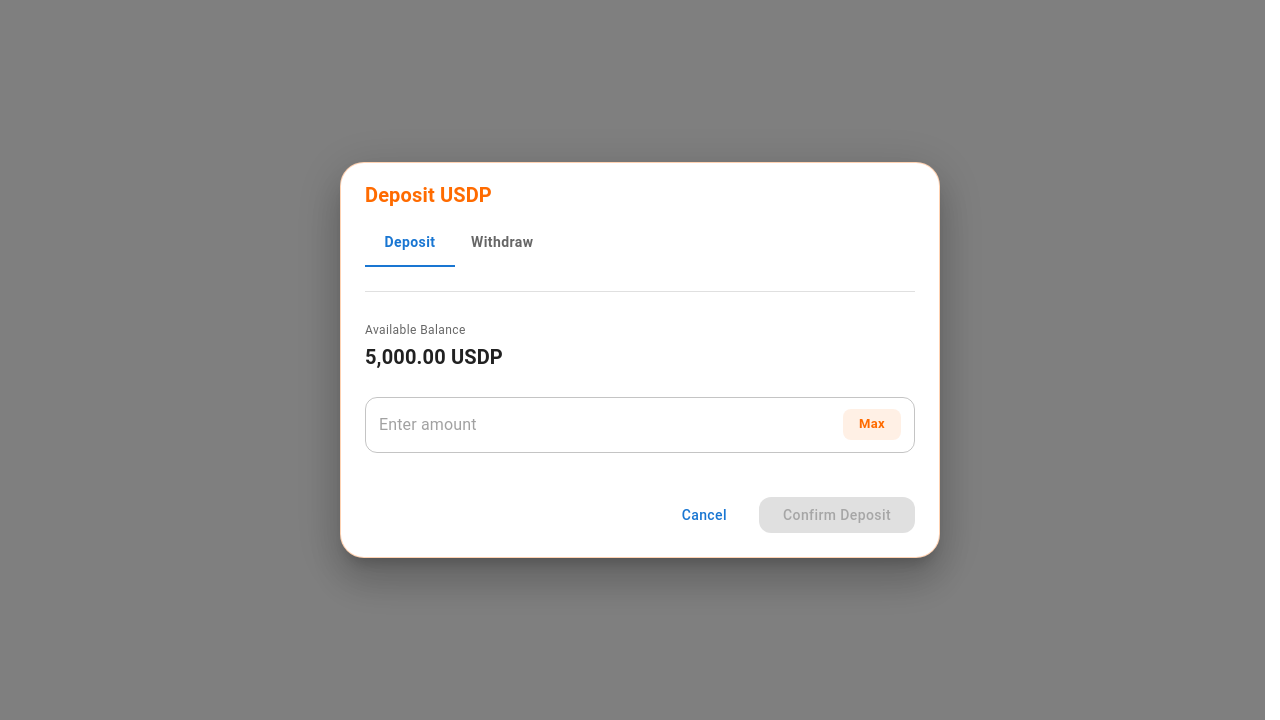
Test: SavingsDepositModal › Functional Tests › should fill max amount on Max button click
Click the button "Max": point(872, 425) [843,409,901,440]
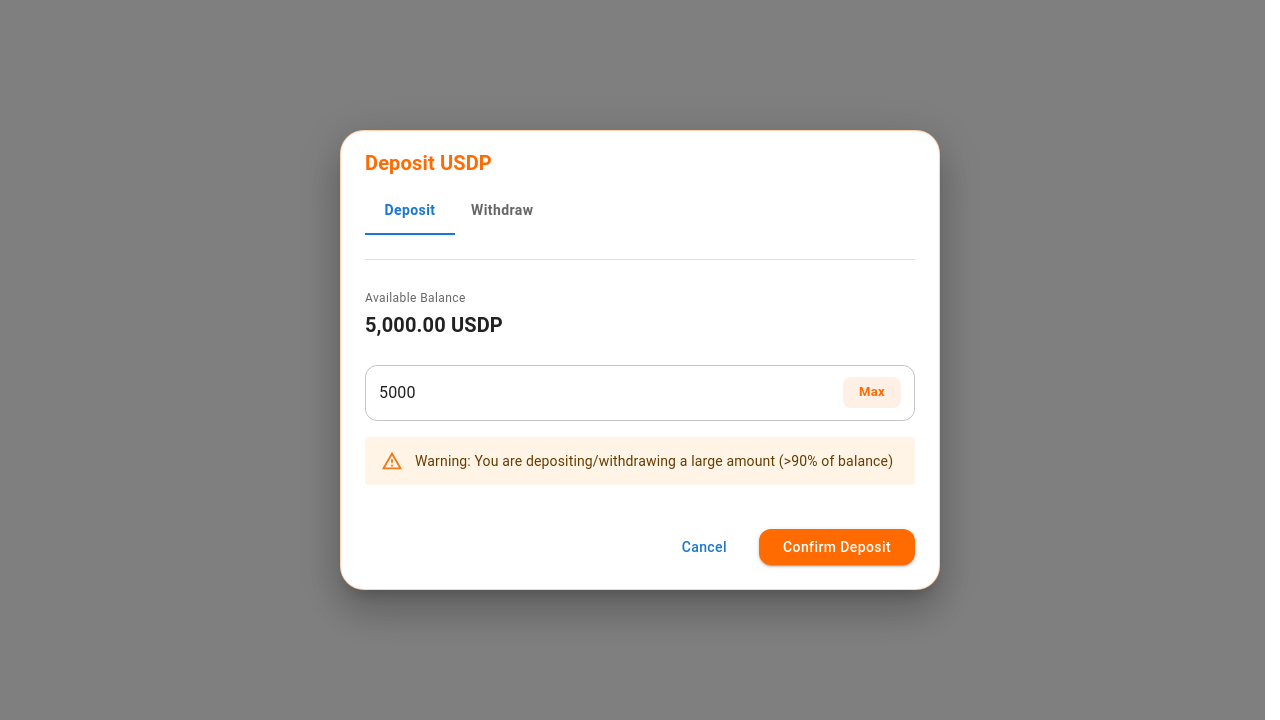
Check: the field with placeholder "Enter amount" is not empty, box [365,365,843,421]
